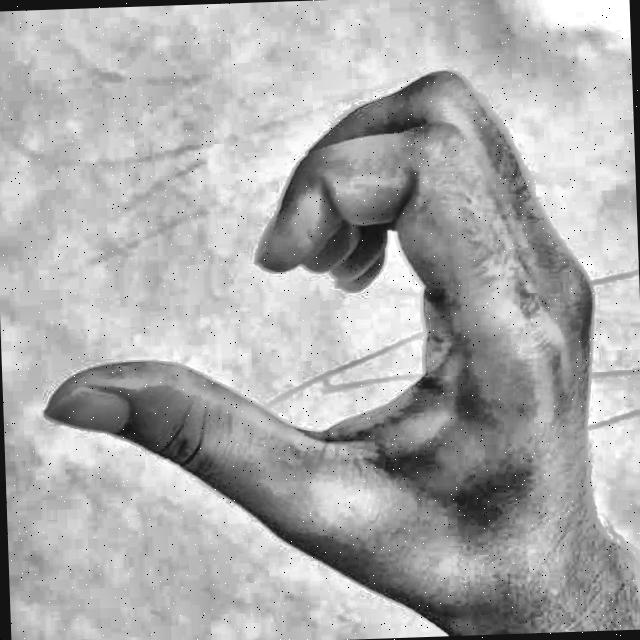Kha: (5, 2, 634, 628)
